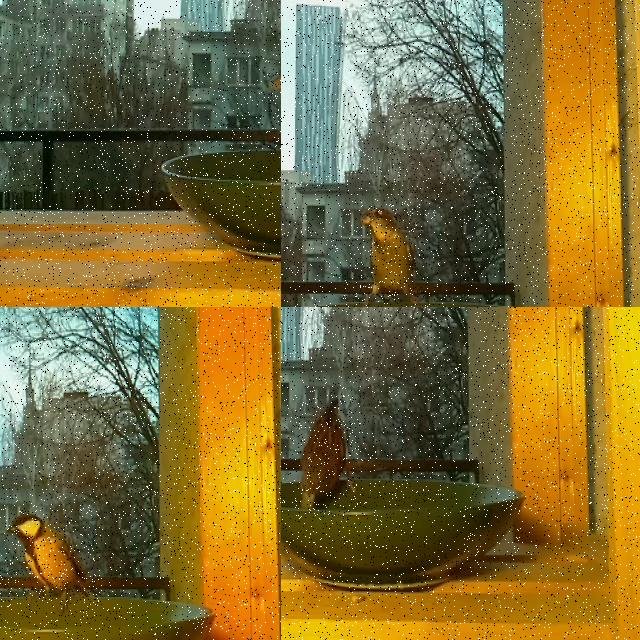Bogatka: (5, 510, 101, 605)
Wrobel: (296, 395, 359, 519), (355, 204, 428, 307)
